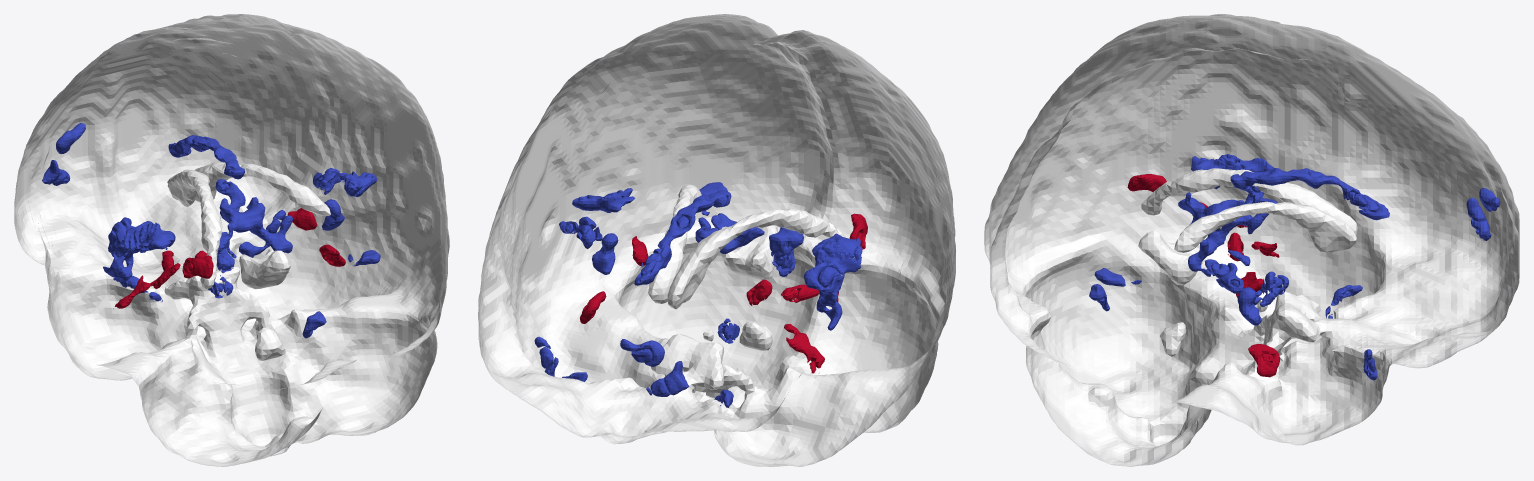
3 renders of one model, left to right at view 1: azimuth 30°, elevation 25°; view 2: azimuth 150°, elevation 25°; view 3: azimuth 270°, elevation 25°, orthographic. The views are drawn at different scales.
Visible parts, largest first — view 1: Renderer Node; view 2: Renderer Node; view 3: Renderer Node.
Boxes of the visible parts, <box> form: Renderer Node: <box>14,14,449,466</box>; Renderer Node: <box>478,14,955,466</box>; Renderer Node: <box>984,14,1519,466</box>.
Bounding box in the file's own units: 144 × 152 × 180.
Materials: 2 (2 with a texture image).
